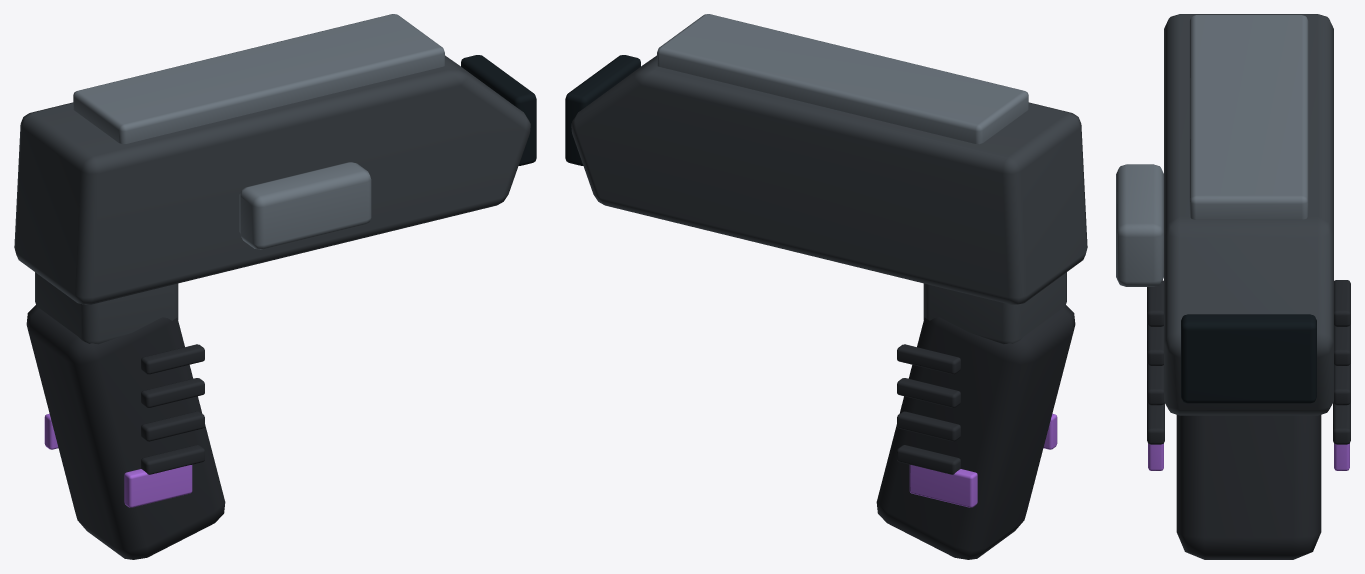
3 renders of one model, left to right at view 1: azimuth 30°, elevation 25°; view 2: azimuth 150°, elevation 25°; view 3: azimuth 270°, elevation 25°, orthographic. The views are drawn at different scales.
Visible parts, largest first — view 1: T02__Upper_housing, T02__Grip, T02__Upper_trim, T02__Diagnostic_side, T02__Grip_bridge, T02, T02__Solid_front, T02__Role_inlay; view 2: T02__Upper_housing, T02__Grip, T02__Upper_trim, T02__Grip_bridge, T02, T02__Solid_front, T02__Role_inlay.001; view 3: T02__Upper_housing, T02__Upper_trim, T02__Grip, T02__Solid_front, T02__Diagnostic_side, T02, T02__Role_inlay, T02__Role_inlay.001.
Boxes of the visible parts, x1,y1,x2,y2 form: T02__Upper_housing: (14,55,530,304); T02__Grip: (26,305,225,559); T02__Upper_trim: (73,14,444,144); T02__Diagnostic_side: (239,162,371,249); T02__Grip_bridge: (35,272,178,344); T02: (141,344,204,474); T02__Solid_front: (461,55,536,165); T02__Role_inlay: (124,465,192,507); T02__Upper_housing: (571,55,1087,304); T02__Grip: (876,305,1075,559); T02__Upper_trim: (657,14,1028,144); T02__Grip_bridge: (923,272,1066,344); T02: (897,344,960,474); T02__Solid_front: (565,55,640,165); T02__Role_inlay.001: (909,465,977,507); T02__Upper_housing: (1164,14,1333,415); T02__Upper_trim: (1189,15,1308,219); T02__Grip: (1176,415,1321,559); T02__Solid_front: (1181,314,1316,403); T02__Diagnostic_side: (1116,164,1163,286); T02: (1147,280,1350,444); T02__Role_inlay: (1148,443,1163,470); T02__Role_inlay.001: (1334,443,1349,470).
Bounding box in the file's own units: 0.3141 × 0.2848 × 0.1175.
